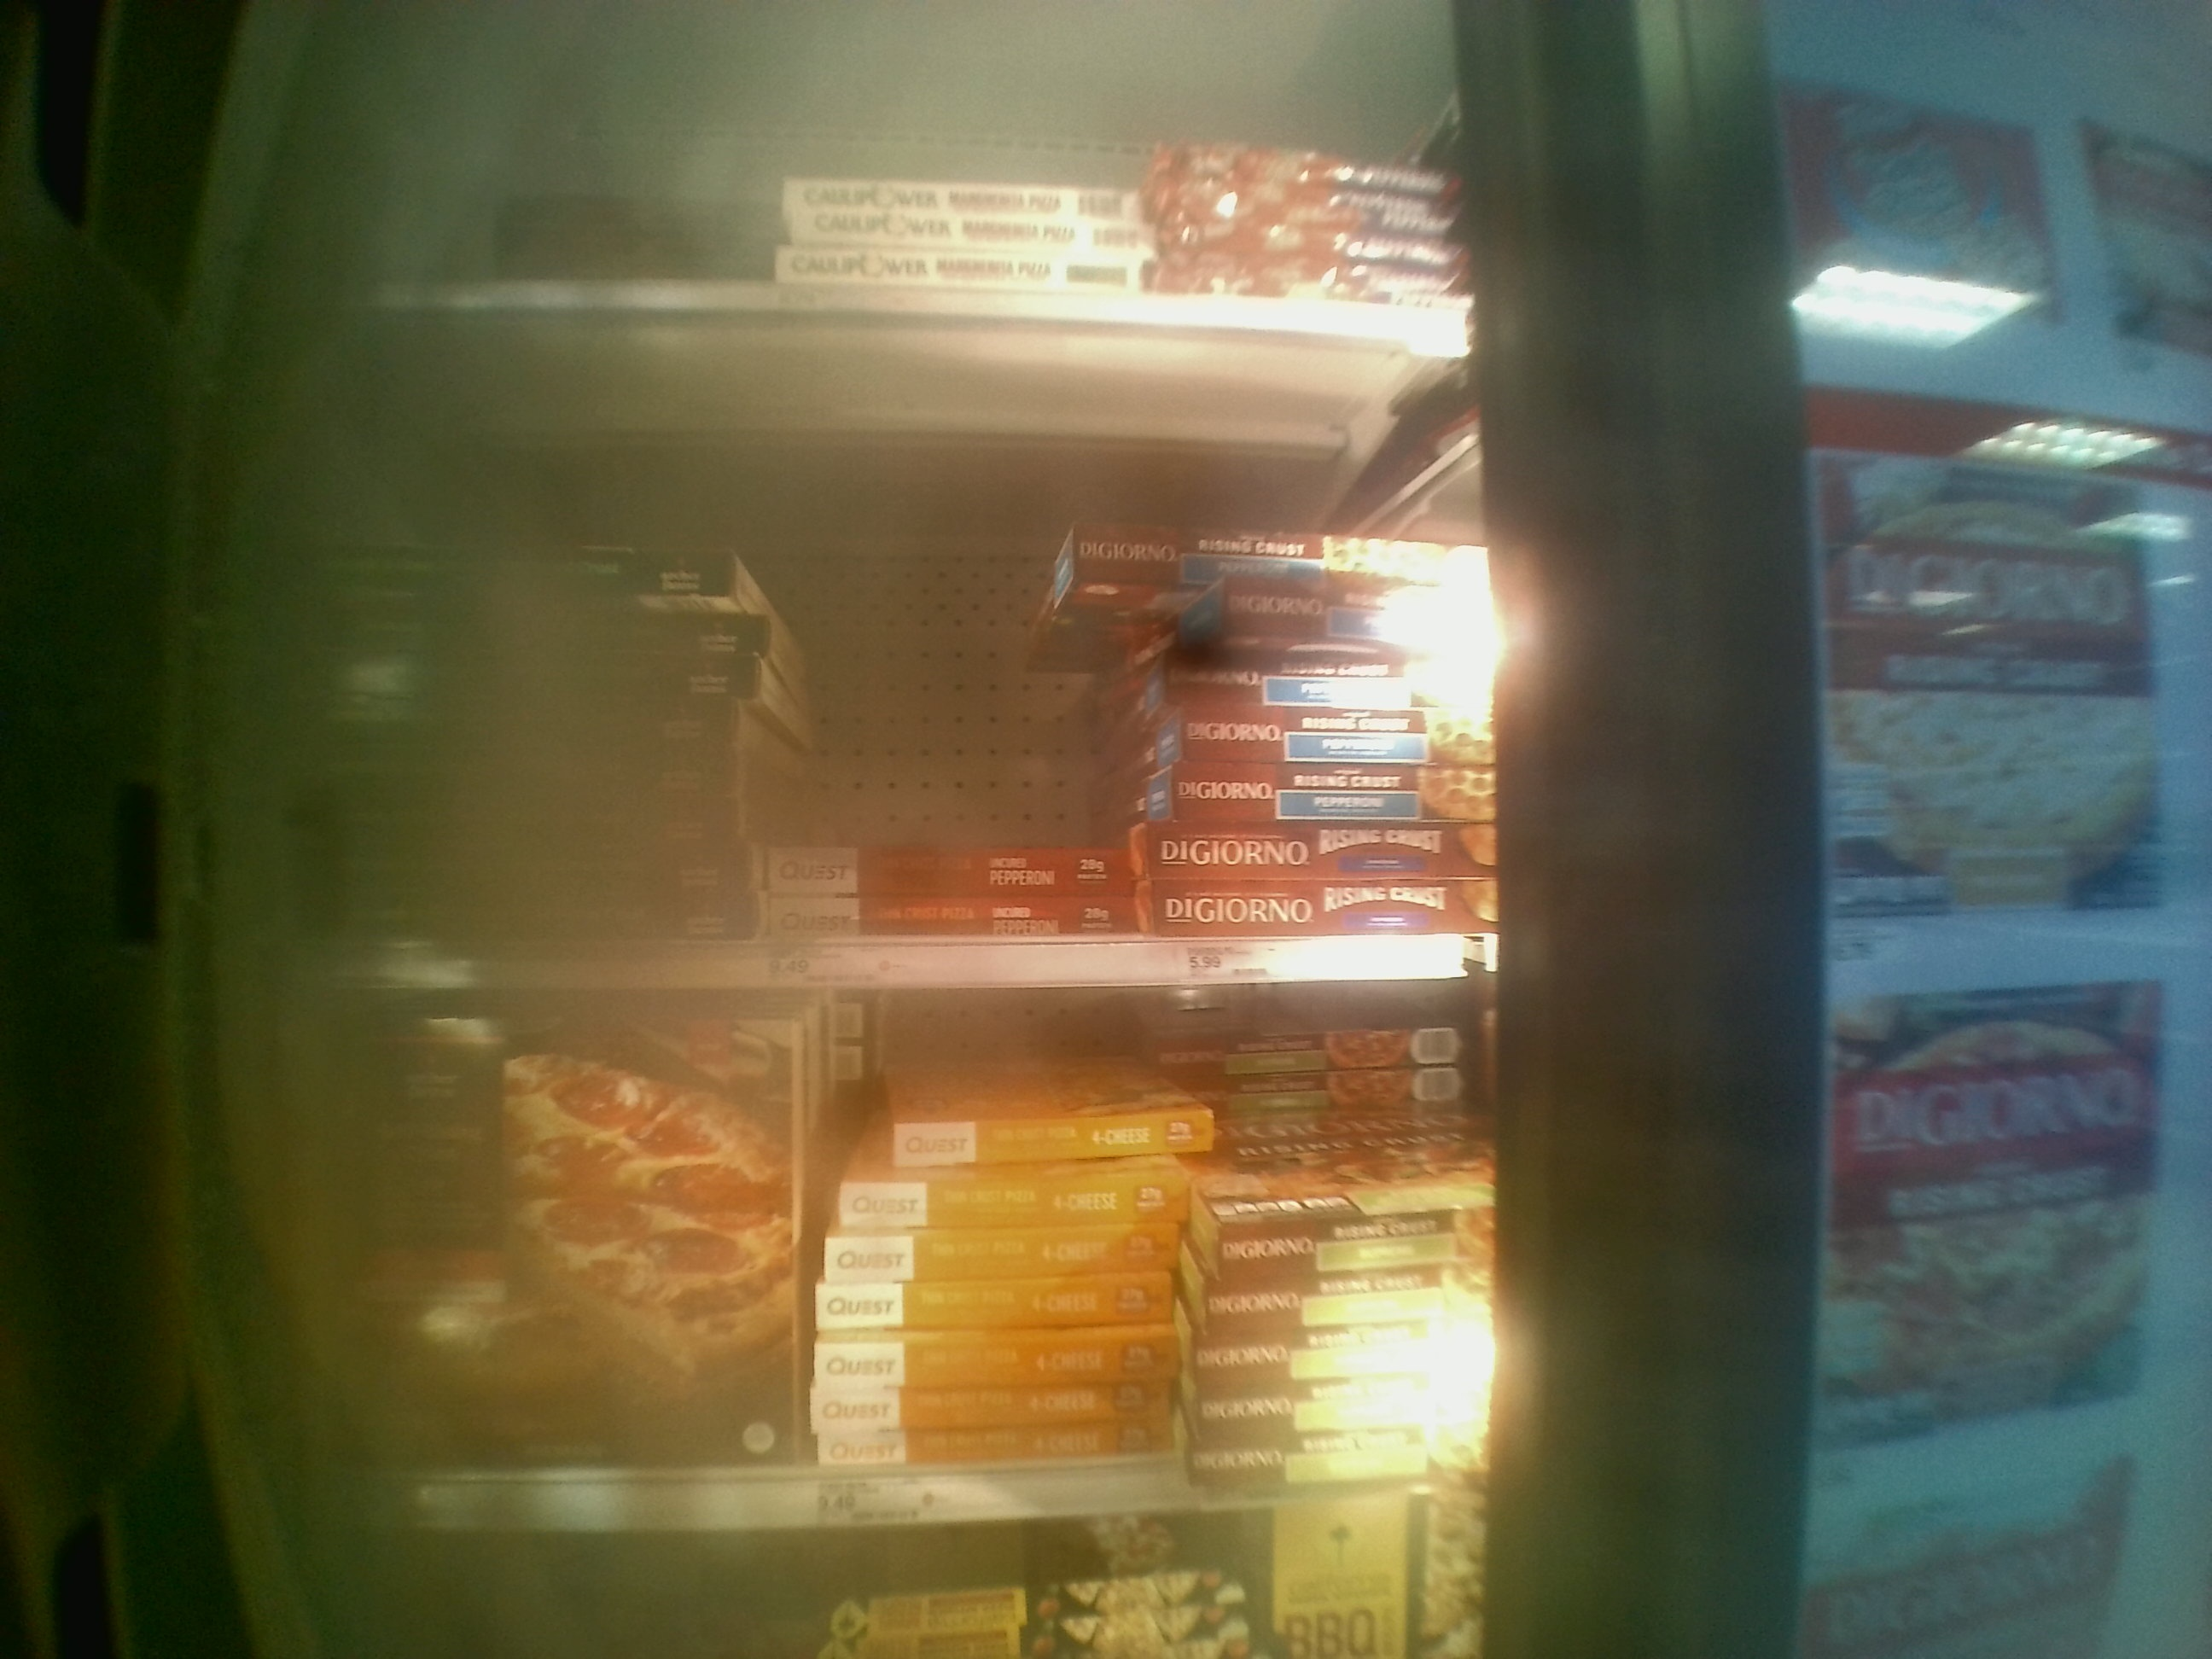pizza: (362, 1025, 792, 1446), (1214, 1119, 1484, 1206), (1097, 530, 1493, 587), (322, 709, 747, 758), (1165, 767, 1505, 828), (315, 809, 732, 854), (326, 552, 738, 598), (374, 617, 756, 657), (787, 179, 1123, 225), (1190, 1342, 1421, 1405), (1143, 829, 1480, 871), (1179, 714, 1501, 758), (841, 1182, 1183, 1222), (1144, 885, 1489, 924), (892, 1124, 1204, 1166), (827, 1342, 1150, 1382), (822, 1288, 1165, 1324), (315, 915, 733, 945), (1219, 592, 1461, 643), (1195, 1401, 1432, 1452), (763, 852, 1123, 885), (824, 1431, 1158, 1466), (827, 1241, 1174, 1274), (329, 892, 744, 918), (796, 209, 1139, 240), (763, 904, 1143, 932), (352, 662, 756, 688), (343, 871, 733, 897), (1190, 1450, 1420, 1493), (357, 767, 716, 795), (1176, 667, 1470, 701), (824, 1392, 1151, 1419), (789, 254, 1139, 279), (1195, 1030, 1447, 1063), (1200, 1075, 1479, 1103), (1188, 1295, 1426, 1326), (1209, 1236, 1451, 1262)
